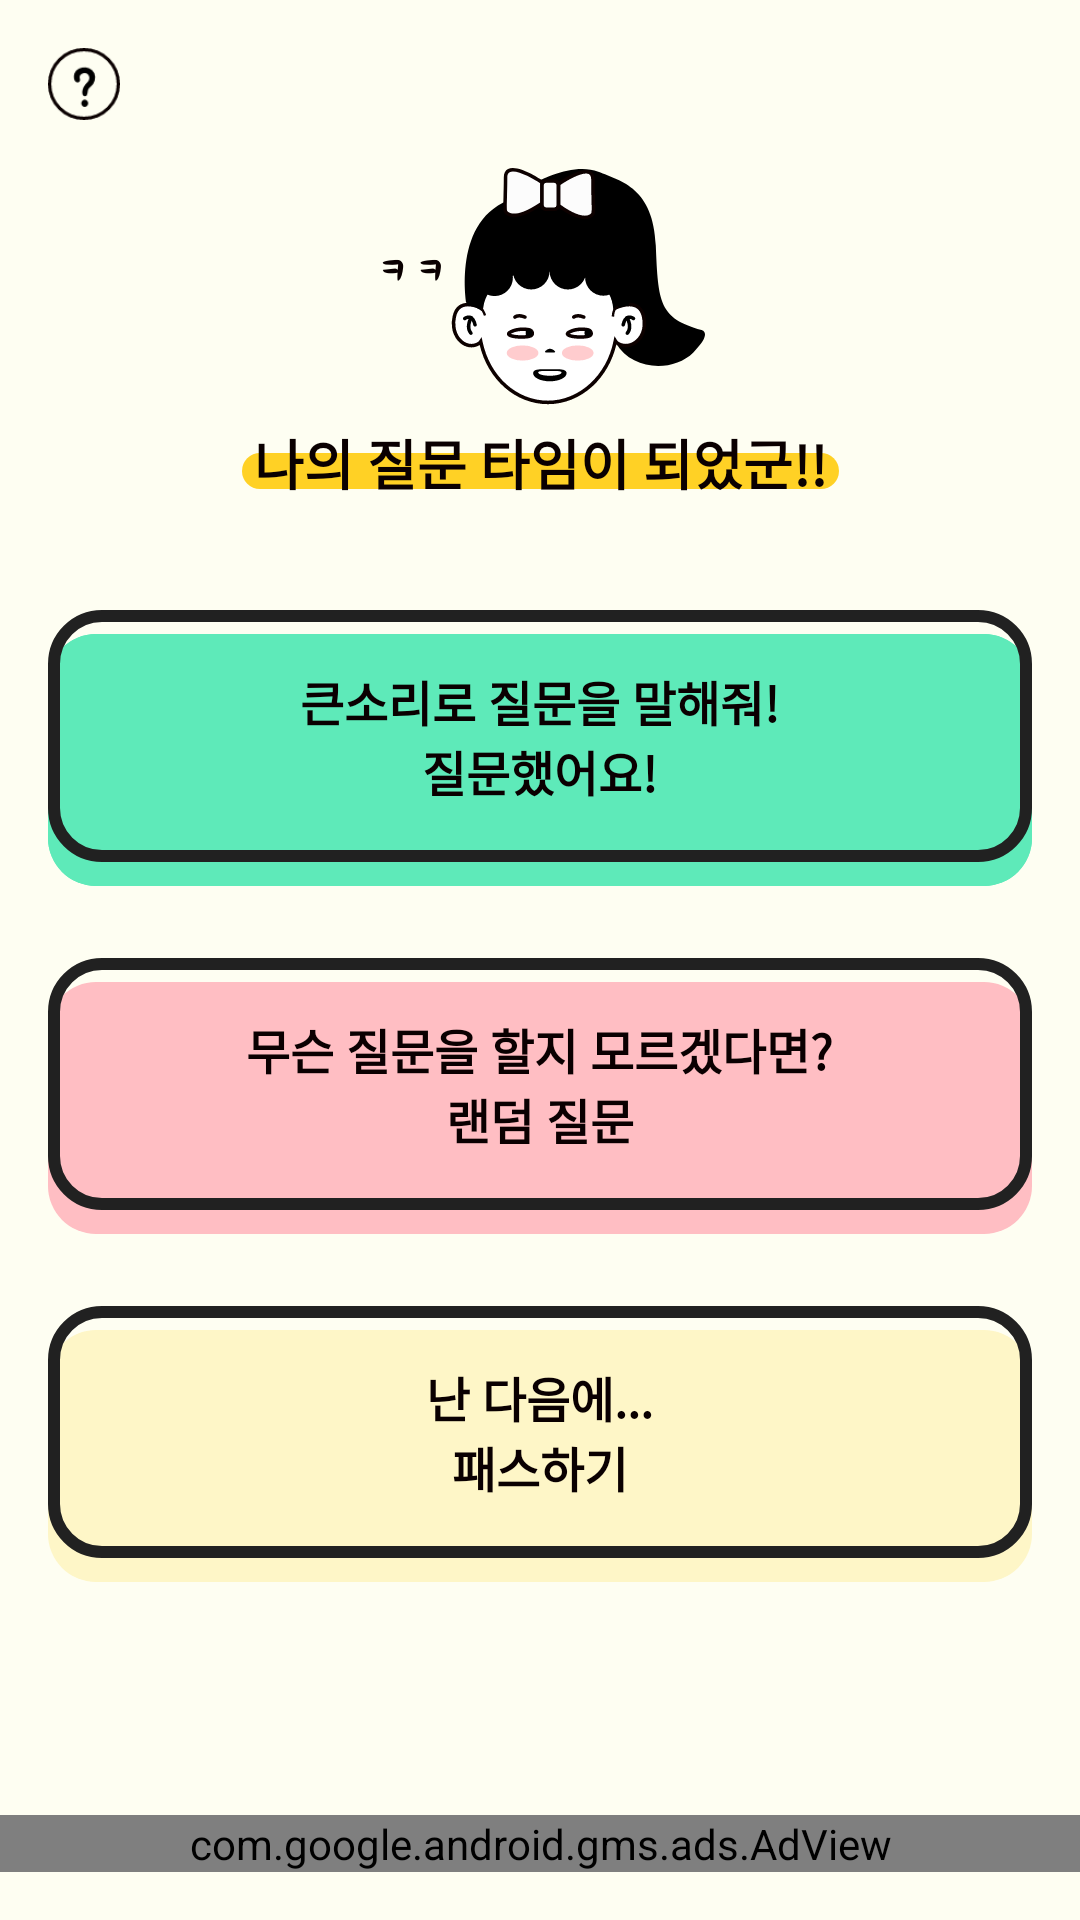

Where icons sit on this 1080×1920 app screen, as box(x1, y1, x2, y2):
girl: box(382, 168, 705, 405)
question: box(48, 48, 120, 120)
